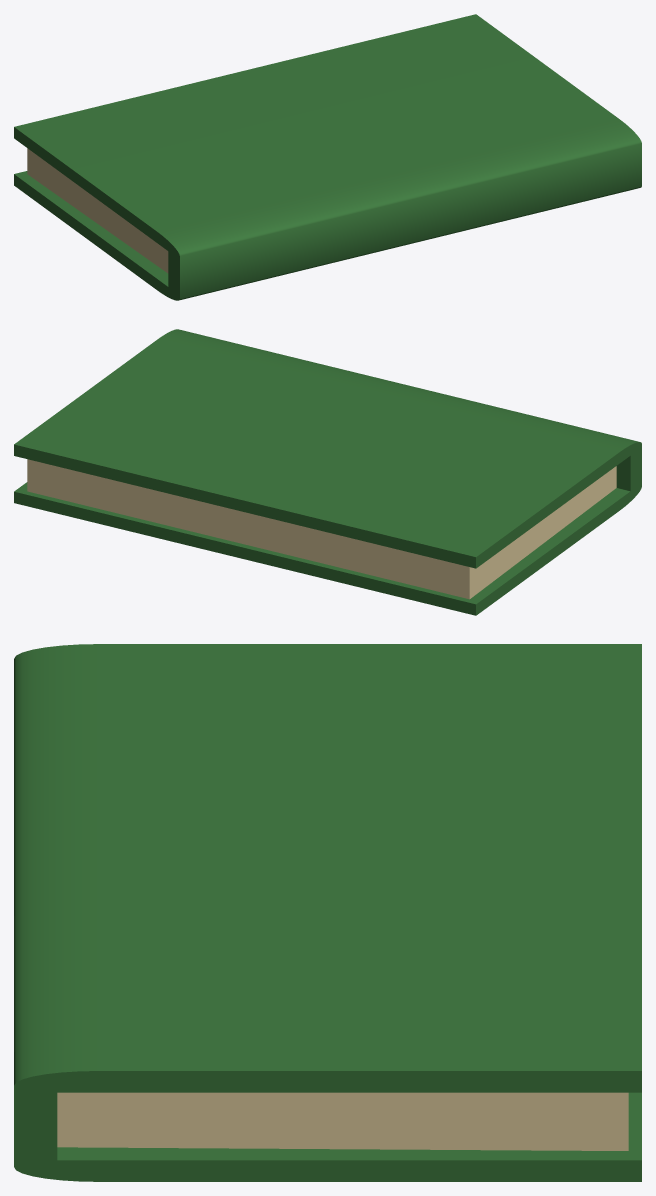
Rendered from книга.fbx.
3 renders of one model, top to bottom at view 1: azimuth 30°, elevation 25°; view 2: azimuth 150°, elevation 25°; view 3: azimuth 270°, elevation 25°, orthographic. The views are drawn at different scales.
Parts seen in each view (by area): view 1: Cube; view 2: Cube; view 3: Cube.
Part boxes in pixels (x1,y1,x2,y2): Cube: (14, 14, 641, 300); Cube: (14, 329, 641, 615); Cube: (14, 644, 641, 1181).
Size of the model in its own units: 200 by 24.24 by 124.
